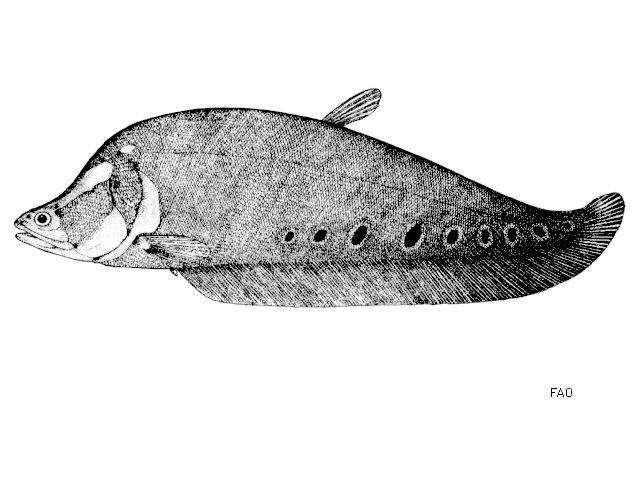Mulut: (9, 208, 79, 260)
Sirip Dada: (130, 227, 222, 277)
Sirip Punggung: (316, 78, 388, 134)
